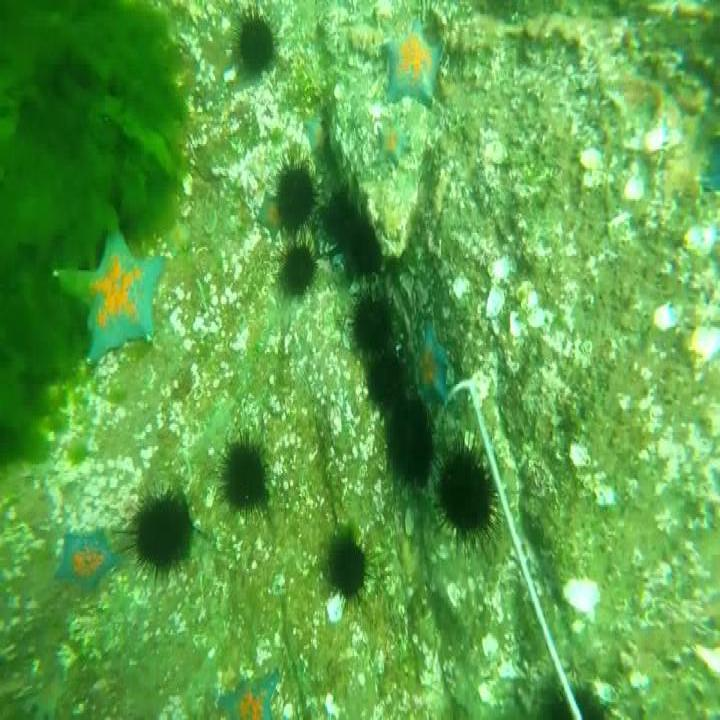echinus: (55, 224, 164, 361), (112, 487, 193, 583), (437, 441, 498, 547), (379, 20, 442, 112), (324, 186, 379, 274), (218, 426, 267, 524), (385, 391, 433, 484), (55, 530, 118, 594), (214, 666, 280, 720), (324, 525, 372, 599), (412, 316, 445, 414), (274, 160, 316, 236), (232, 9, 273, 76), (355, 294, 397, 358), (540, 686, 606, 720), (370, 352, 409, 409), (279, 240, 315, 297), (379, 110, 407, 167), (304, 112, 331, 151)
scallop: (559, 576, 600, 613), (692, 327, 720, 363), (646, 124, 680, 148), (486, 283, 508, 320), (684, 228, 716, 252), (653, 302, 681, 329), (581, 148, 605, 170), (625, 169, 643, 197), (488, 138, 507, 164)
